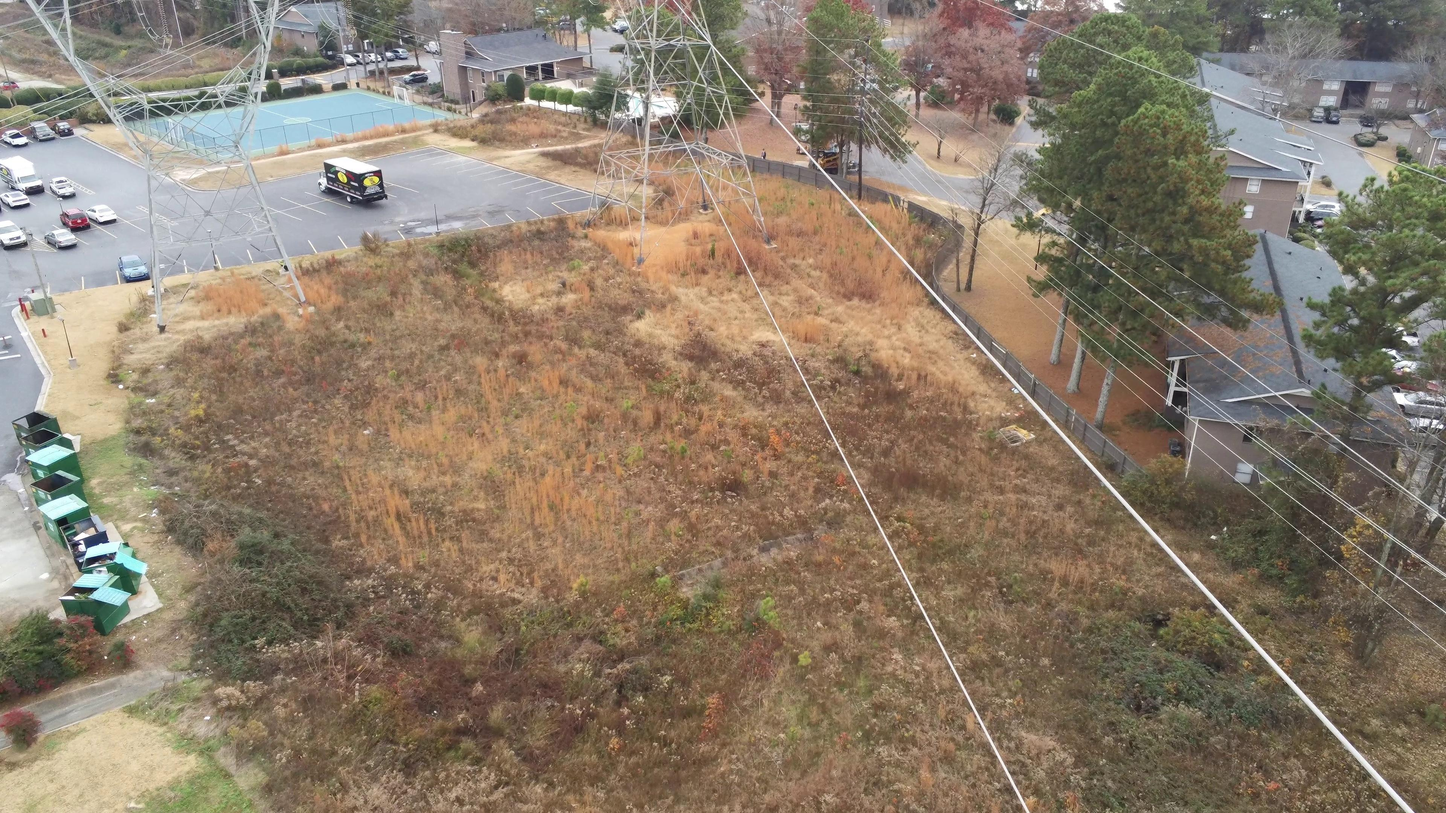power_tower: (26, 0, 307, 335), (583, 0, 772, 266)
